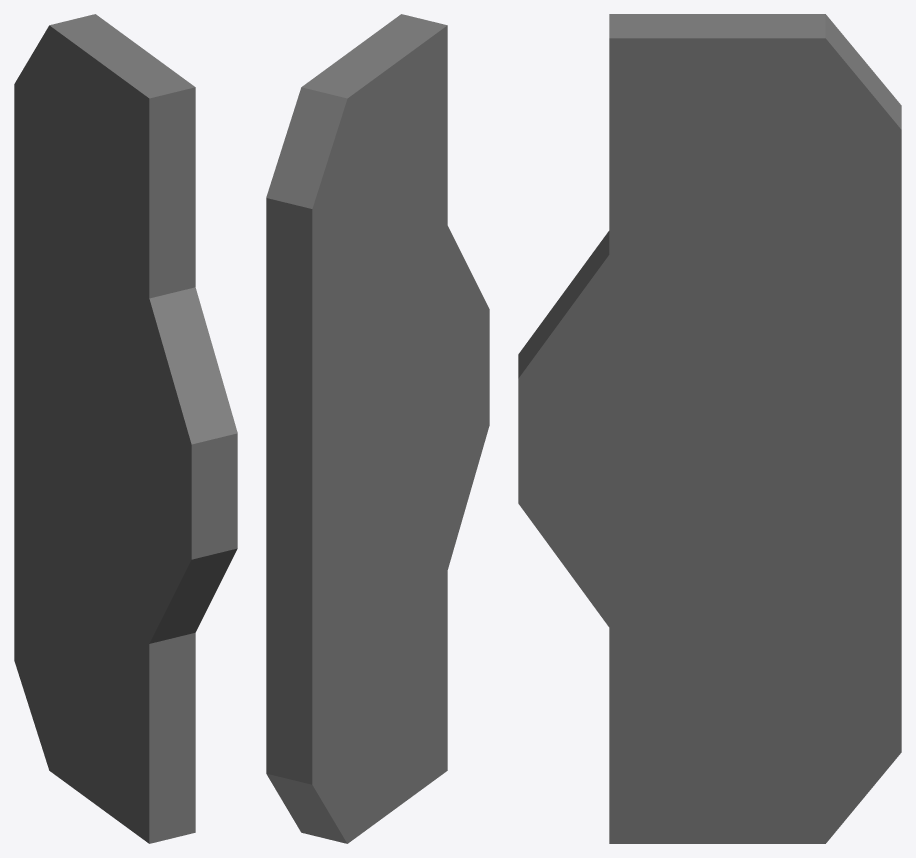
The model's file is PuertaMacho.fbx.
3 views of the same model, side by side, from view 1: azimuth 30°, elevation 25°; view 2: azimuth 150°, elevation 25°; view 3: azimuth 270°, elevation 25° (orthographic). The views are drawn at different scales.
Parts seen in each view (by area): view 1: PuertaMacho; view 2: PuertaMacho; view 3: PuertaMacho.
Boxes of the visible parts, x1=… form: PuertaMacho: x1=14, y1=14, x2=237, y2=843; PuertaMacho: x1=266, y1=14, x2=489, y2=843; PuertaMacho: x1=518, y1=14, x2=901, y2=843.
Bounding box in the file's own units: 37.95 × 585 × 252.
Materials: 1 (1 with a texture image).
